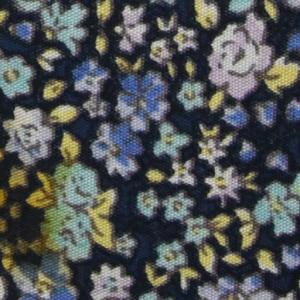Oil Stain: (1, 148, 78, 296)
